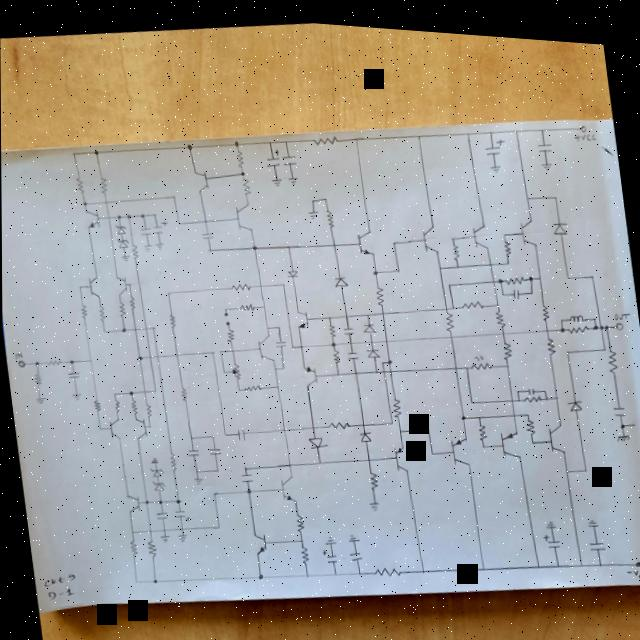capacitor: (480, 128, 506, 152), (540, 522, 561, 541), (262, 142, 278, 164), (533, 130, 552, 147), (170, 502, 189, 519), (318, 541, 337, 558), (150, 216, 168, 233), (279, 145, 295, 164), (584, 528, 604, 543), (609, 393, 624, 409), (345, 543, 362, 556), (237, 467, 254, 480), (152, 504, 167, 518), (507, 278, 521, 293), (342, 343, 358, 356), (184, 442, 199, 455), (205, 440, 220, 453), (65, 367, 80, 380), (232, 421, 244, 437), (138, 222, 151, 234), (339, 319, 353, 329), (199, 226, 212, 236), (272, 334, 285, 344), (525, 376, 534, 386)
crossover: (450, 356, 457, 364), (357, 414, 364, 422), (329, 235, 336, 242), (171, 347, 178, 354), (382, 329, 388, 337), (488, 269, 494, 276), (308, 418, 314, 425), (364, 449, 370, 456), (130, 322, 136, 329), (104, 211, 110, 218), (296, 337, 302, 343), (351, 363, 356, 369), (286, 455, 291, 461), (280, 421, 285, 427), (228, 343, 234, 348), (509, 403, 514, 408), (201, 214, 206, 219), (499, 321, 503, 326), (447, 326, 451, 331), (386, 361, 390, 366), (257, 278, 261, 283), (153, 350, 157, 355), (146, 350, 150, 355), (102, 197, 106, 202), (543, 318, 547, 322), (378, 304, 382, 308), (367, 332, 371, 336), (346, 334, 350, 338), (142, 322, 146, 326), (508, 389, 511, 394), (449, 297, 452, 301), (379, 362, 382, 365), (442, 299, 445, 301)
diode: (303, 428, 325, 445), (549, 210, 567, 227), (565, 388, 581, 405), (331, 268, 348, 284), (359, 313, 376, 328), (362, 338, 379, 353), (354, 422, 371, 437), (148, 475, 165, 489), (146, 462, 163, 475), (113, 219, 125, 235), (284, 262, 298, 275), (114, 234, 128, 246)
ground: (612, 418, 633, 433), (343, 525, 359, 537), (283, 168, 297, 181), (365, 492, 379, 505), (320, 528, 335, 540), (538, 150, 551, 162), (488, 154, 501, 166), (542, 508, 554, 520), (585, 508, 598, 519), (174, 527, 185, 539), (157, 529, 169, 540), (68, 388, 81, 398), (306, 203, 317, 214), (191, 470, 201, 481), (147, 452, 158, 462), (269, 172, 281, 181), (32, 393, 44, 402), (141, 240, 151, 250), (152, 238, 161, 247), (119, 251, 128, 258)
inductor: (563, 302, 588, 315)
junction: (510, 117, 519, 126), (524, 264, 533, 273), (65, 355, 75, 363), (351, 128, 359, 138), (254, 567, 262, 576), (533, 264, 541, 273), (352, 562, 361, 570), (134, 350, 142, 359), (462, 121, 470, 129), (460, 355, 467, 364), (183, 139, 192, 146), (327, 334, 336, 341), (249, 238, 256, 246), (369, 261, 376, 269), (522, 185, 529, 193), (550, 183, 557, 191), (163, 285, 170, 293), (536, 116, 544, 123), (393, 259, 400, 267), (169, 188, 176, 196), (552, 551, 559, 559), (580, 456, 587, 464), (563, 263, 570, 271), (444, 272, 451, 280), (415, 125, 422, 133), (119, 323, 126, 331), (95, 421, 102, 429), (125, 385, 132, 393), (457, 405, 464, 412), (149, 574, 156, 581), (388, 231, 395, 238), (209, 485, 216, 492), (68, 147, 75, 154), (277, 275, 284, 282), (174, 215, 181, 222), (586, 262, 593, 269), (204, 242, 211, 249), (149, 383, 156, 390), (91, 146, 98, 153), (211, 462, 218, 469), (436, 256, 443, 263), (394, 420, 401, 427), (502, 251, 509, 258), (148, 321, 155, 328), (85, 354, 92, 361), (32, 358, 39, 365), (154, 495, 161, 502), (494, 268, 501, 275), (232, 134, 238, 142), (422, 418, 428, 425), (240, 459, 246, 466), (595, 550, 601, 557), (75, 282, 82, 288), (616, 412, 623, 418), (283, 237, 289, 244), (478, 557, 485, 563), (145, 524, 151, 531), (427, 442, 433, 448), (601, 313, 607, 319), (342, 306, 348, 312), (301, 566, 307, 572), (576, 551, 582, 557), (237, 165, 243, 171), (385, 351, 390, 358), (534, 553, 539, 560), (176, 522, 183, 527), (333, 364, 338, 370), (316, 453, 321, 459), (221, 427, 226, 433), (244, 483, 249, 489), (278, 360, 284, 365), (219, 362, 224, 368), (110, 388, 115, 394), (173, 494, 179, 499), (209, 430, 214, 436), (124, 210, 129, 216), (485, 253, 490, 258), (321, 190, 326, 195), (452, 255, 457, 260), (142, 495, 147, 500), (187, 431, 192, 436), (192, 465, 197, 470), (558, 317, 562, 322), (600, 335, 604, 340), (474, 406, 478, 411), (371, 363, 376, 367), (274, 319, 278, 324), (273, 378, 277, 383), (145, 420, 149, 425), (214, 520, 218, 525), (590, 306, 594, 310), (591, 314, 595, 318), (598, 314, 602, 318), (527, 281, 531, 285), (499, 282, 503, 286), (563, 340, 567, 344), (542, 386, 546, 390), (514, 380, 518, 384), (514, 389, 518, 393), (528, 430, 532, 434), (503, 354, 507, 358), (467, 391, 471, 395), (479, 436, 483, 440), (563, 459, 567, 463), (494, 293, 498, 297), (363, 306, 367, 310), (326, 309, 330, 313), (388, 413, 392, 417), (310, 192, 314, 196), (297, 533, 301, 537), (331, 565, 335, 569), (419, 561, 423, 565), (260, 299, 264, 303), (271, 360, 275, 364), (217, 344, 221, 348), (208, 346, 212, 350), (100, 326, 104, 330), (128, 526, 132, 530), (160, 524, 164, 528), (132, 575, 136, 579), (125, 279, 129, 283), (115, 212, 119, 216), (139, 209, 143, 213), (150, 208, 154, 212), (81, 198, 85, 202), (266, 135, 270, 139), (282, 134, 286, 138), (523, 402, 526, 407), (558, 307, 561, 311), (552, 385, 555, 389), (264, 320, 267, 324), (235, 383, 238, 387), (541, 380, 544, 383), (450, 229, 453, 232)
resistor: (371, 556, 401, 572), (309, 126, 338, 141), (466, 350, 493, 365), (458, 289, 483, 304), (370, 277, 385, 301), (503, 264, 526, 279), (603, 339, 616, 364), (324, 412, 349, 425), (440, 304, 454, 326), (542, 325, 556, 346), (565, 313, 591, 324), (237, 171, 250, 193), (228, 275, 250, 288), (322, 200, 333, 225), (296, 538, 308, 560), (499, 331, 511, 353), (390, 389, 401, 412), (228, 354, 239, 377), (522, 408, 534, 429), (492, 300, 504, 321), (366, 463, 377, 485), (96, 171, 107, 193), (240, 377, 261, 388), (235, 296, 254, 308), (537, 293, 549, 312), (292, 506, 302, 528), (501, 227, 511, 249), (127, 392, 138, 412), (323, 315, 335, 333), (474, 412, 484, 433), (519, 384, 540, 394), (29, 368, 41, 385), (111, 394, 121, 414), (177, 380, 187, 400), (448, 234, 459, 252), (43, 355, 61, 366), (167, 446, 176, 468), (94, 301, 104, 320), (115, 297, 125, 316), (127, 535, 137, 554), (165, 307, 175, 326), (125, 291, 135, 310), (73, 173, 83, 192), (77, 300, 87, 318), (89, 395, 101, 410), (128, 239, 138, 257), (233, 145, 243, 163), (328, 343, 339, 358), (222, 323, 233, 338)
terminal: (220, 306, 230, 321), (575, 113, 585, 123), (16, 357, 24, 367), (612, 311, 621, 319), (631, 550, 640, 556), (628, 411, 634, 416)
text: (571, 119, 596, 134), (609, 298, 630, 312), (624, 555, 640, 569), (10, 348, 21, 359), (472, 345, 483, 353)
transistor: (445, 427, 472, 464), (230, 196, 256, 231), (495, 418, 521, 453), (516, 204, 540, 241), (273, 467, 298, 500), (542, 412, 565, 447), (388, 435, 409, 469), (252, 325, 273, 358), (417, 216, 438, 248), (466, 213, 489, 242), (297, 355, 319, 384), (353, 222, 374, 252), (248, 526, 268, 554), (191, 163, 211, 190), (104, 413, 123, 441), (129, 411, 147, 440), (291, 301, 310, 328), (110, 268, 127, 295), (84, 271, 101, 297), (81, 205, 99, 228), (122, 490, 140, 511)
